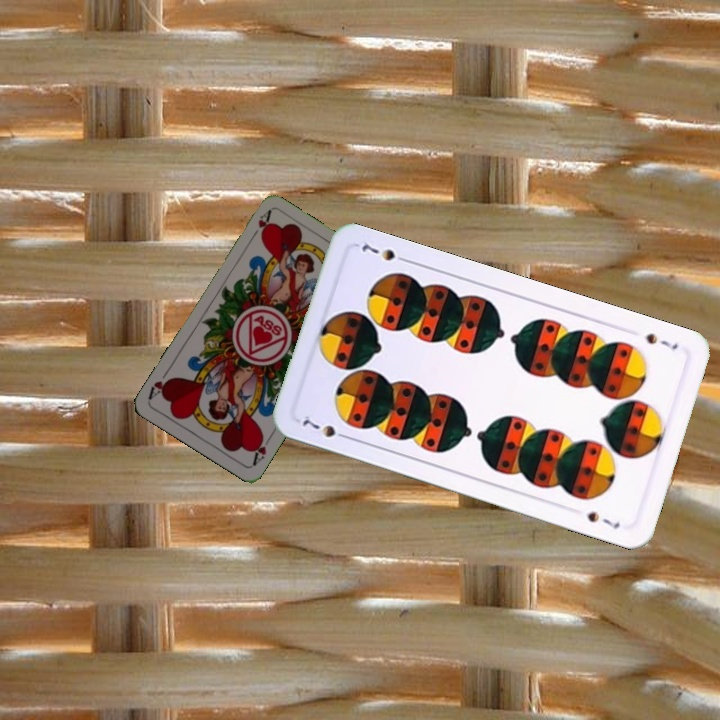HA: (246, 207, 274, 243), (248, 431, 275, 468)
S7: (298, 411, 353, 442), (642, 329, 681, 353)
